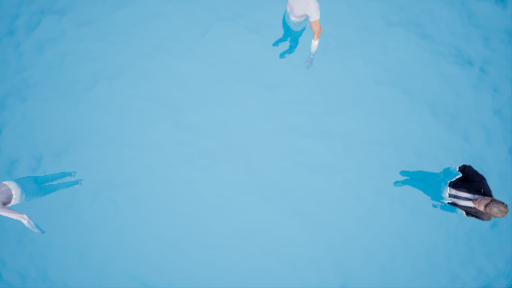person: (401, 166, 497, 227), (276, 2, 330, 69)
